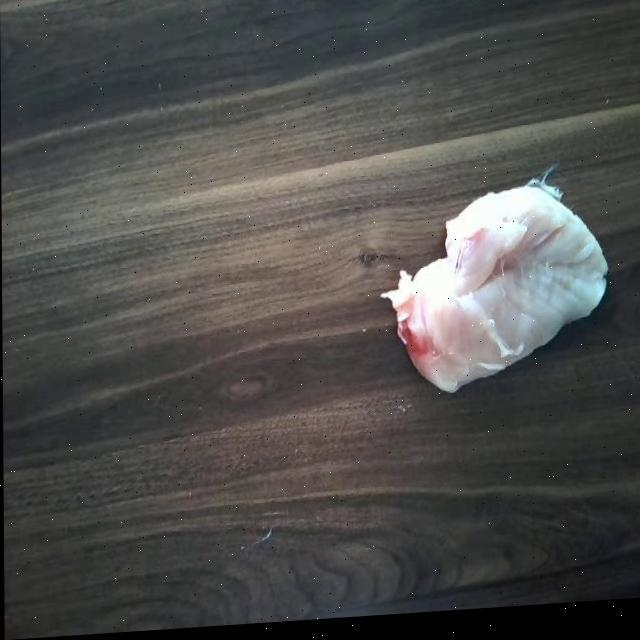leg: (387, 173, 609, 408)
